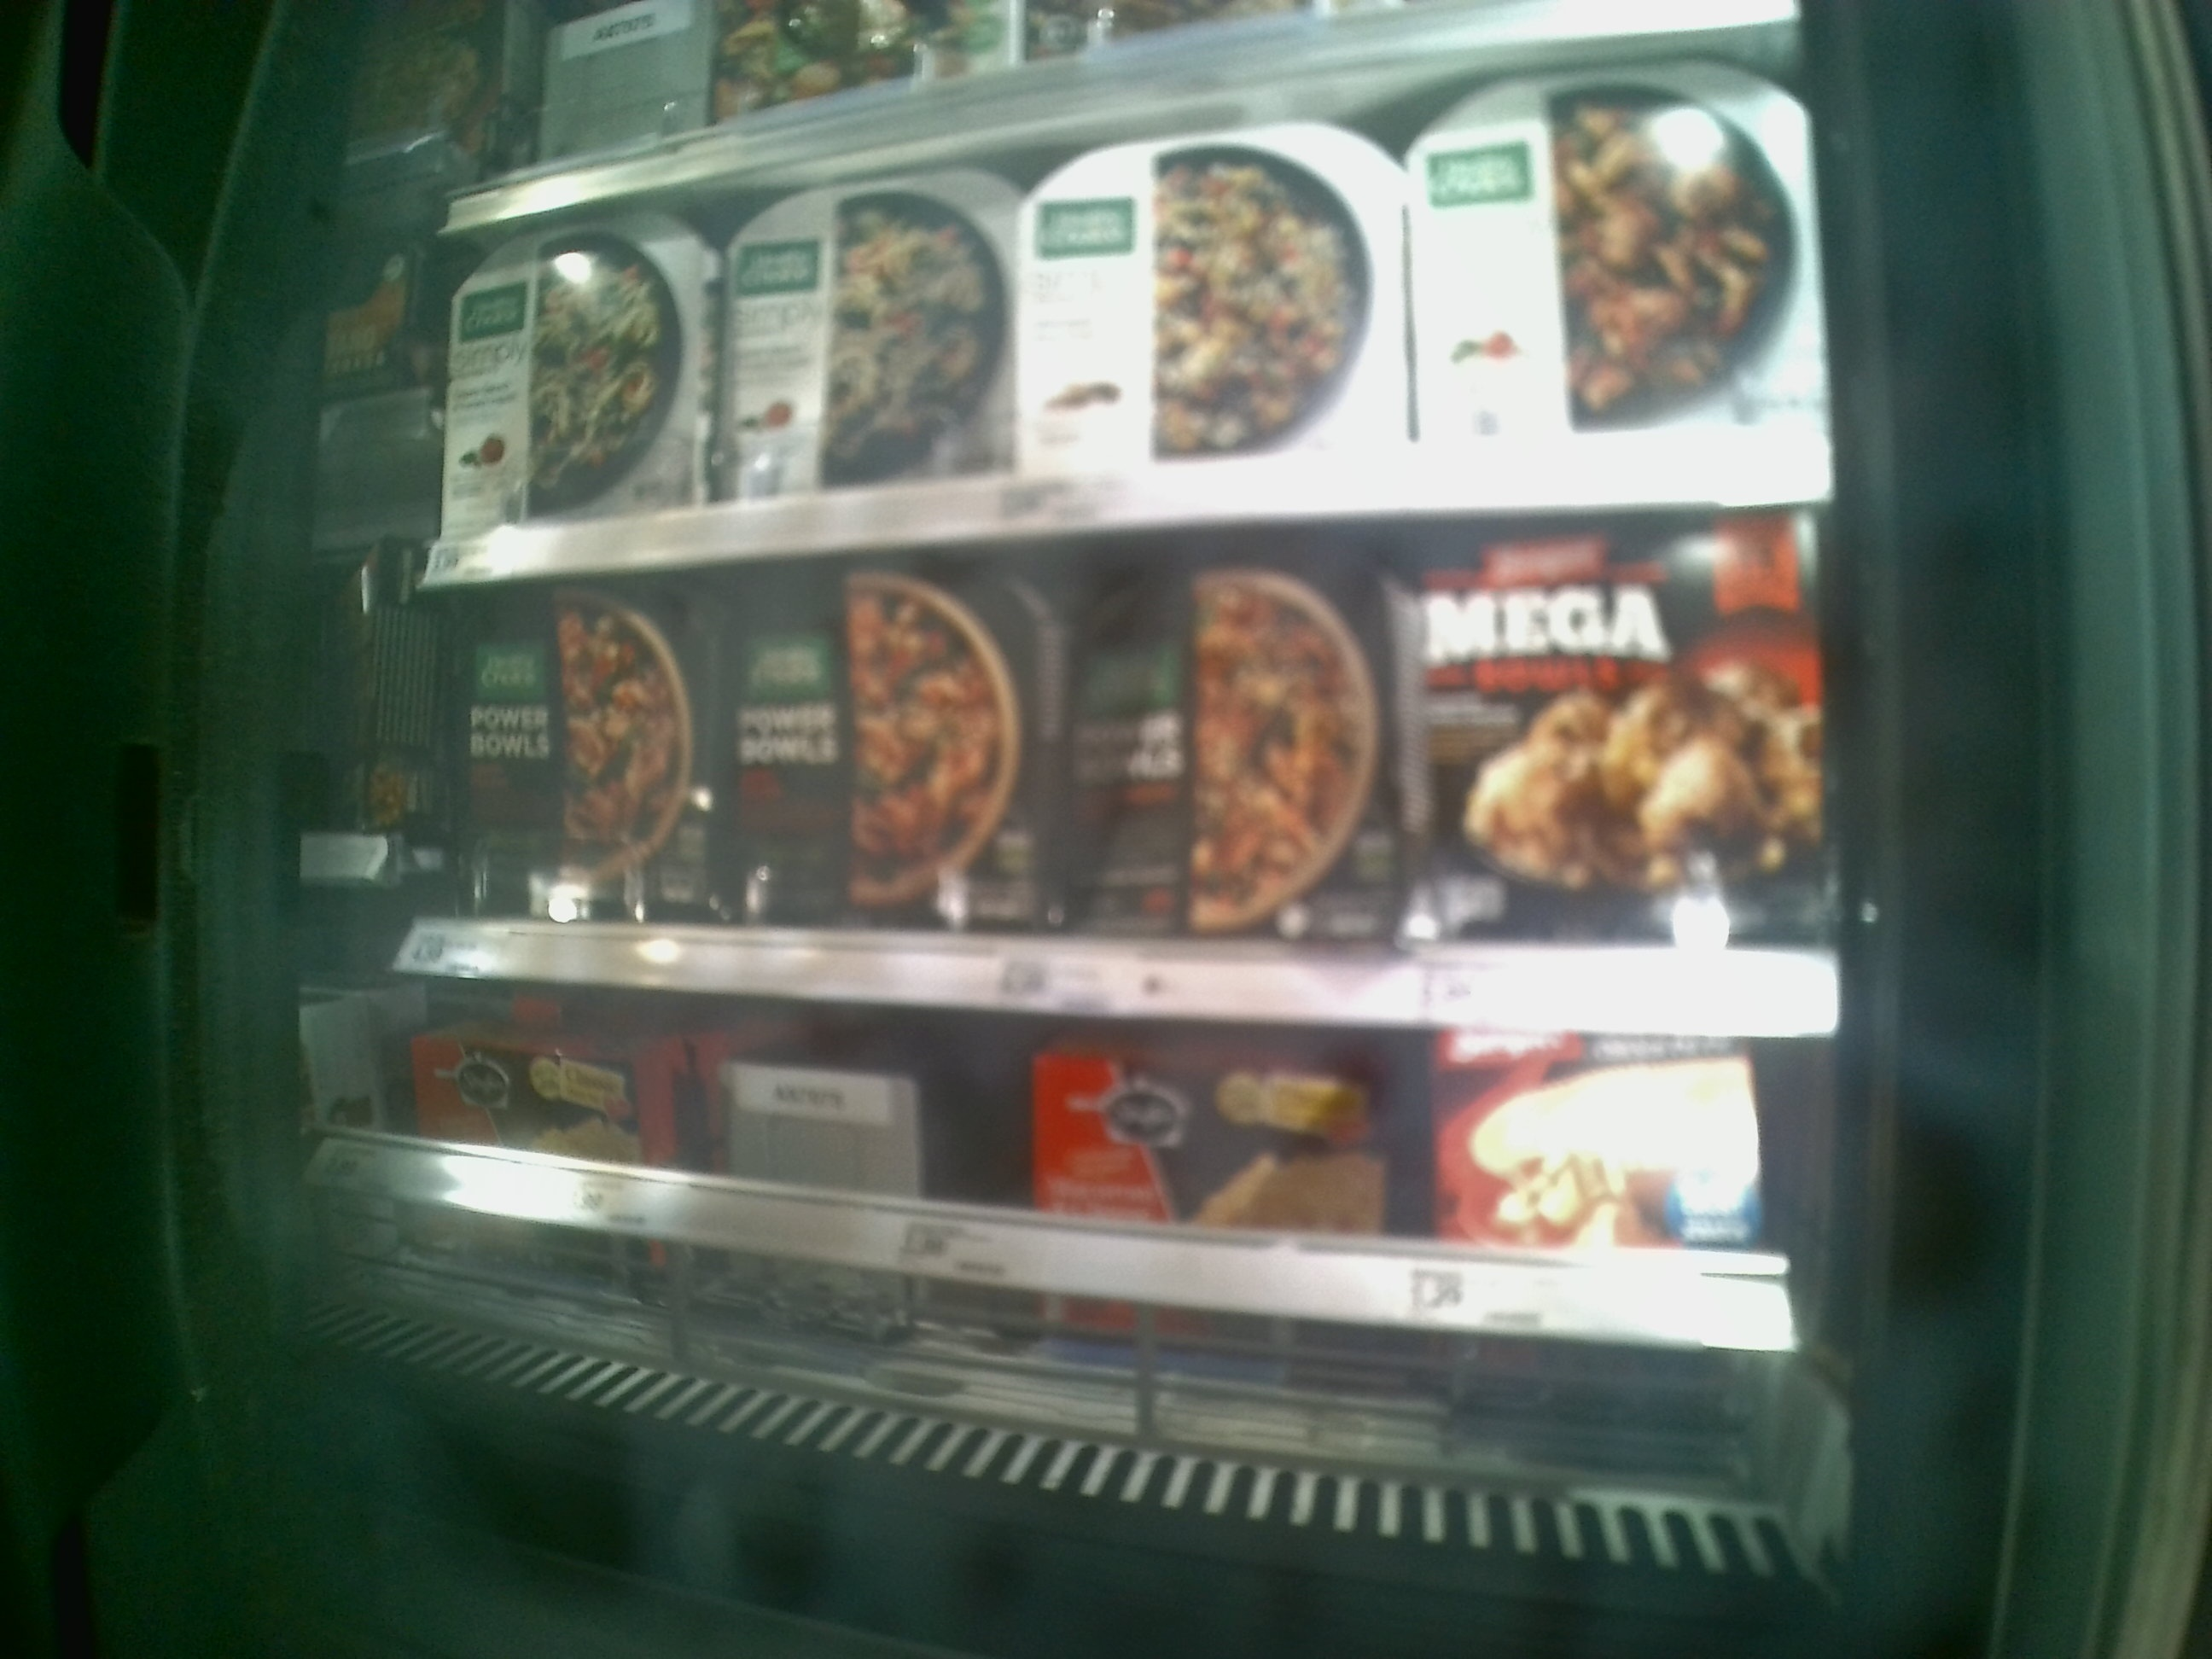shelf: (401, 493, 1839, 1040), (381, 978, 1829, 1513)
